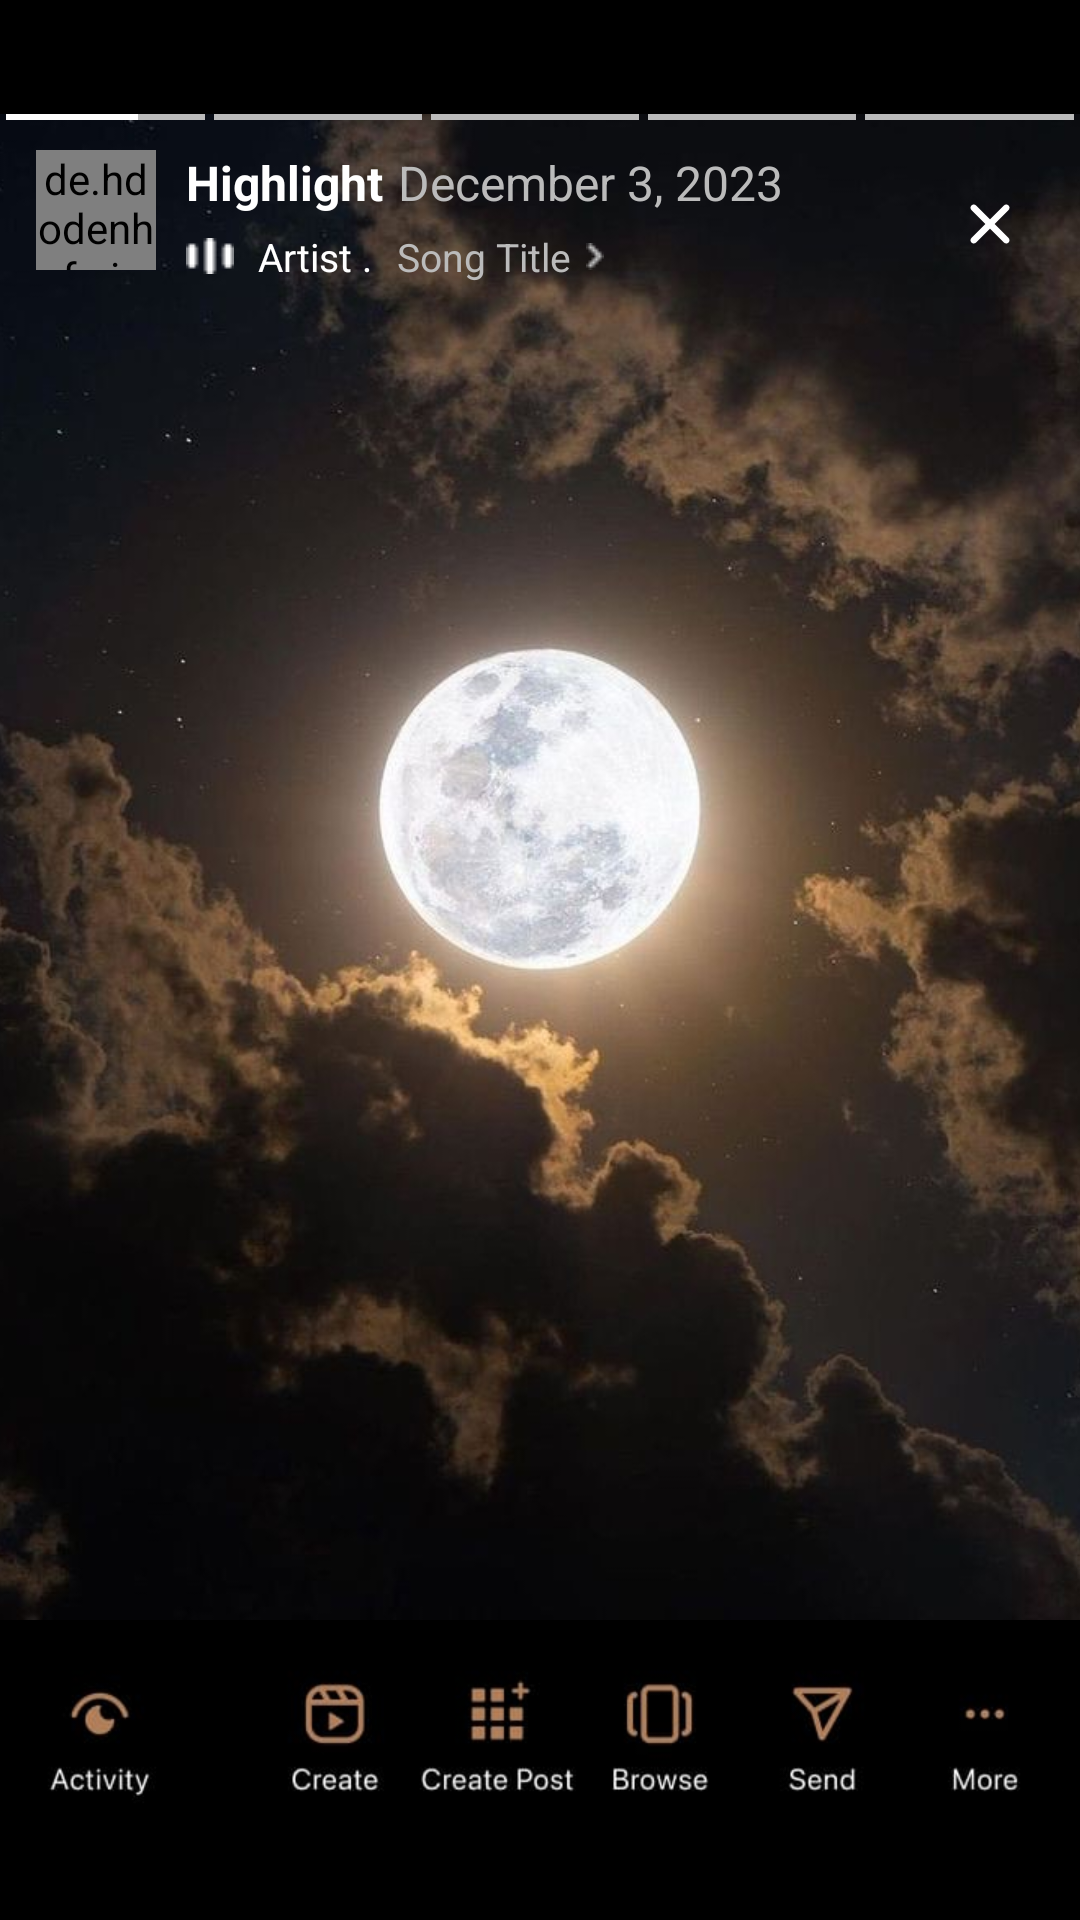

Screen size 1080×1920. Icon name, then its center in pixels as (x=x, y=y):
close: (x=997, y=233)
soundwave: (x=210, y=256)
